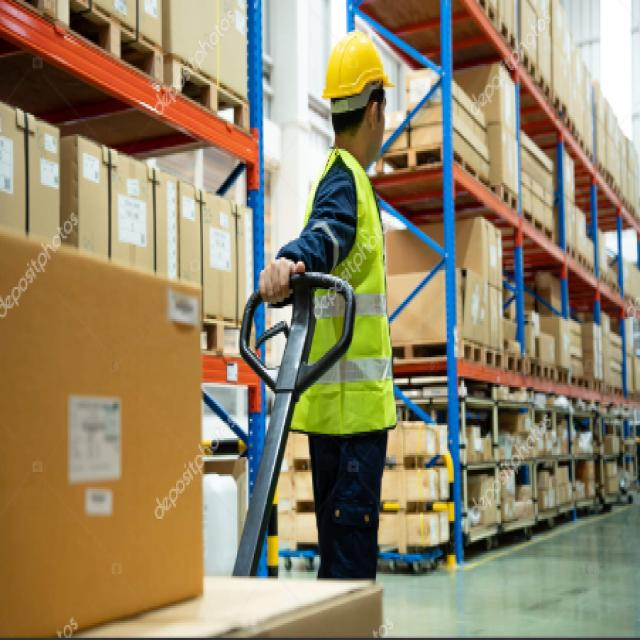hard_hat: (317, 27, 400, 163)
vest: (288, 146, 404, 440)
